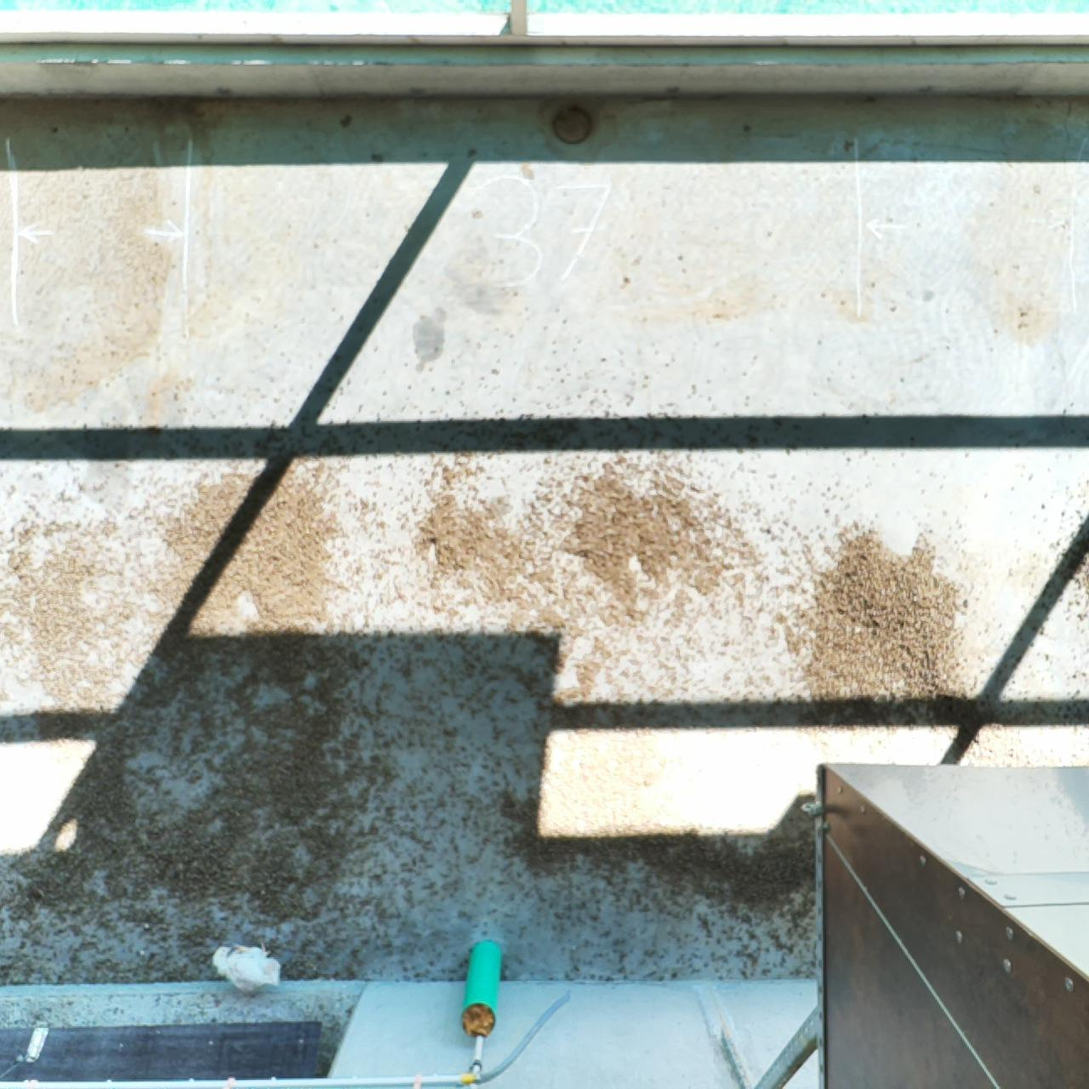chicken: (209, 934, 286, 998)
